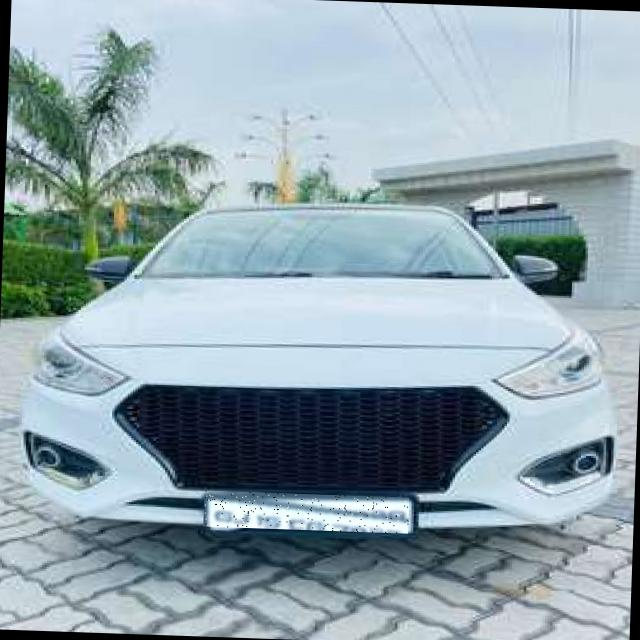Plate: (204, 491, 410, 534)
